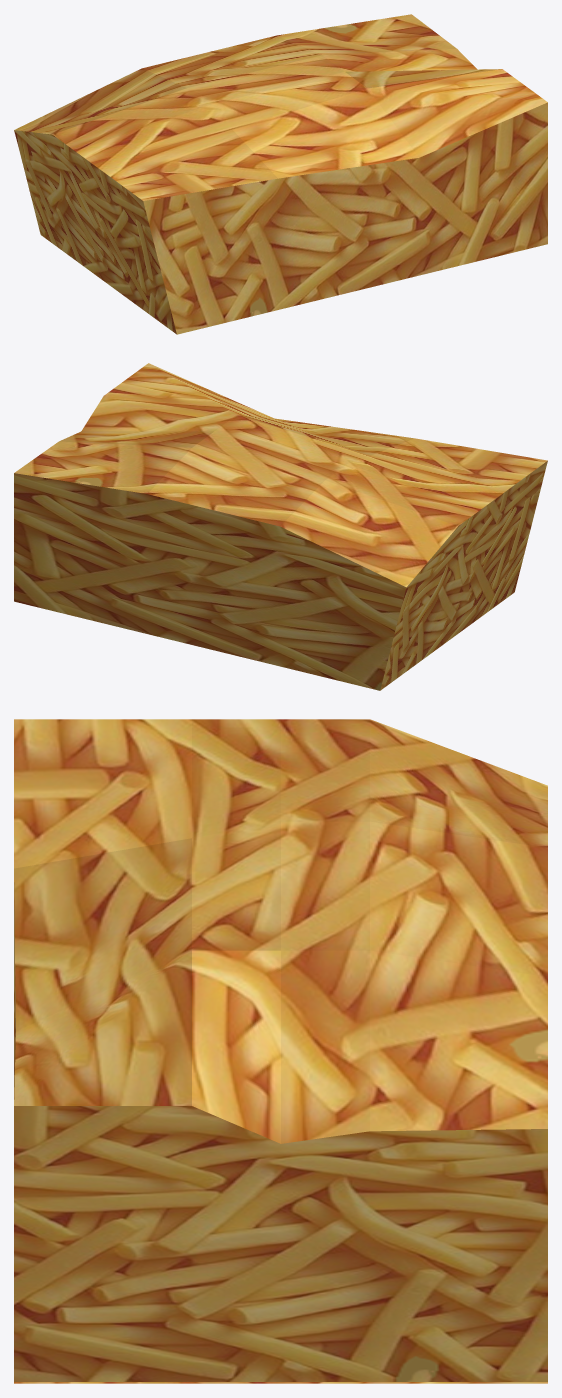
The model's file is f_Sraightfries_fryingBasket.fbx.
3 renders of one model, top to bottom at view 1: azimuth 30°, elevation 25°; view 2: azimuth 150°, elevation 25°; view 3: azimuth 270°, elevation 25°, orthographic. The views are drawn at different scales.
Visible parts, largest first — view 1: f_fries_inFryingbasket; view 2: f_fries_inFryingbasket; view 3: f_fries_inFryingbasket.
Boxes of the visible parts, bbox=[...] form: f_fries_inFryingbasket: bbox=[14, 14, 547, 334]; f_fries_inFryingbasket: bbox=[14, 363, 547, 690]; f_fries_inFryingbasket: bbox=[14, 719, 547, 1383].
Size of the model in its own units: 30.94 by 53.03 by 19.46.
